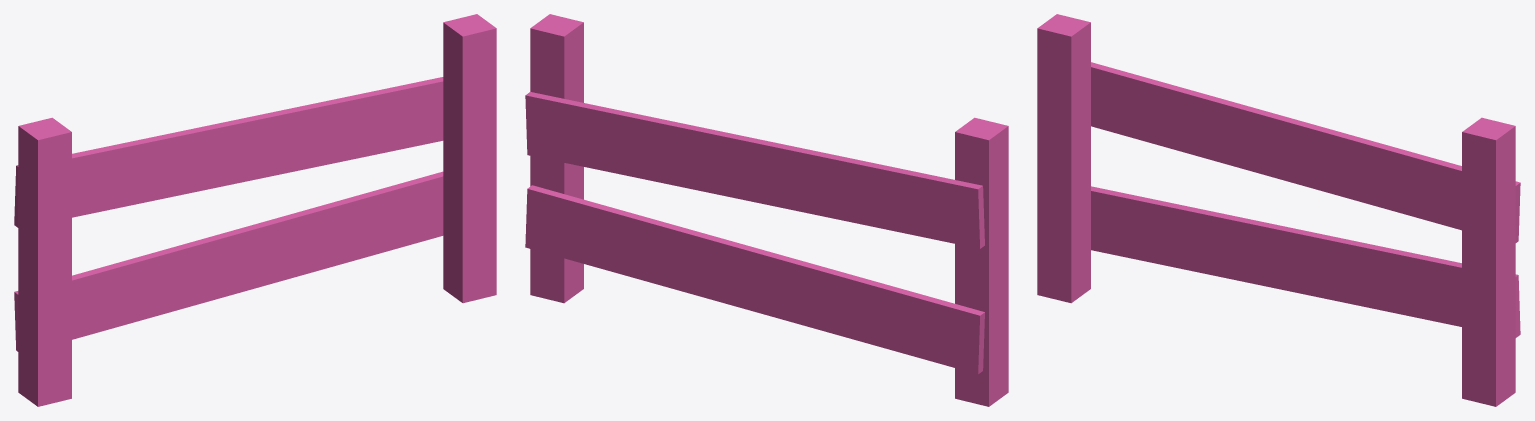
File: sm_fence.fbx
3 views of the same model, side by side, from view 1: azimuth 30°, elevation 25°; view 2: azimuth 150°, elevation 25°; view 3: azimuth 330°, elevation 25° (orthographic).
Parts seen in each view (by area): view 1: sm_valla.001, sm_valla, sm_valla.002, sm_valla.003; view 2: sm_valla.001, sm_valla, sm_valla.003, sm_valla.002; view 3: sm_valla, sm_valla.001, sm_valla.003, sm_valla.002.
Part boxes in pixels (x1,y1,x2,y2): sm_valla.001: [14, 171, 443, 351]; sm_valla: [14, 77, 443, 227]; sm_valla.002: [443, 14, 496, 303]; sm_valla.003: [18, 117, 71, 406]; sm_valla.001: [525, 185, 984, 374]; sm_valla: [525, 92, 984, 248]; sm_valla.003: [955, 117, 1008, 406]; sm_valla.002: [530, 14, 583, 303]; sm_valla: [1091, 62, 1520, 242]; sm_valla.001: [1091, 186, 1520, 337]; sm_valla.003: [1037, 14, 1090, 303]; sm_valla.002: [1462, 117, 1515, 406].
Bounding box in the file's own units: 162 × 90 × 16.
